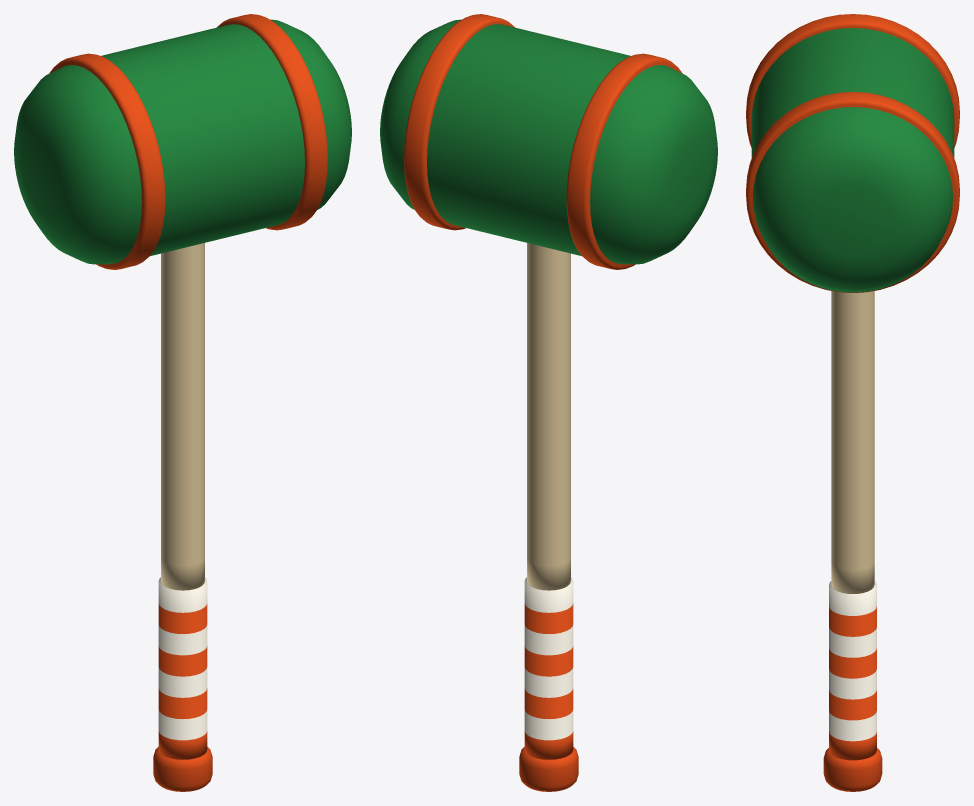
File: hammer_kidaru.fbx
3 renders of one model, left to right at view 1: azimuth 30°, elevation 25°; view 2: azimuth 150°, elevation 25°; view 3: azimuth 270°, elevation 25°, orthographic.
Parts seen in each view (by area): view 1: kidaru_hammer; view 2: kidaru_hammer; view 3: kidaru_hammer.
Boxes of the visible parts, left/top/right/bottom form: kidaru_hammer: left=14, top=14, right=351, bottom=791; kidaru_hammer: left=380, top=14, right=717, bottom=791; kidaru_hammer: left=746, top=14, right=959, bottom=791.
Bounding box in the file's own units: 1.04 × 2.61 × 0.696.
